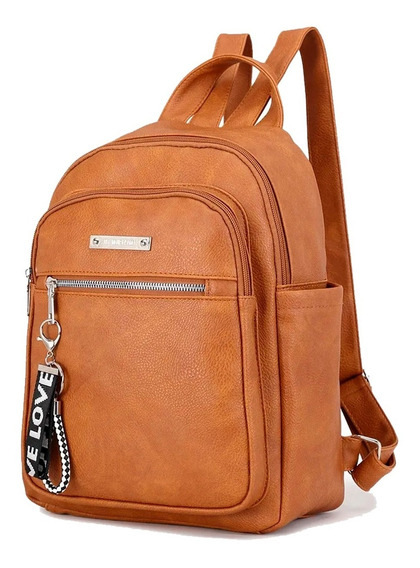cartera: (18, 26, 399, 534)
